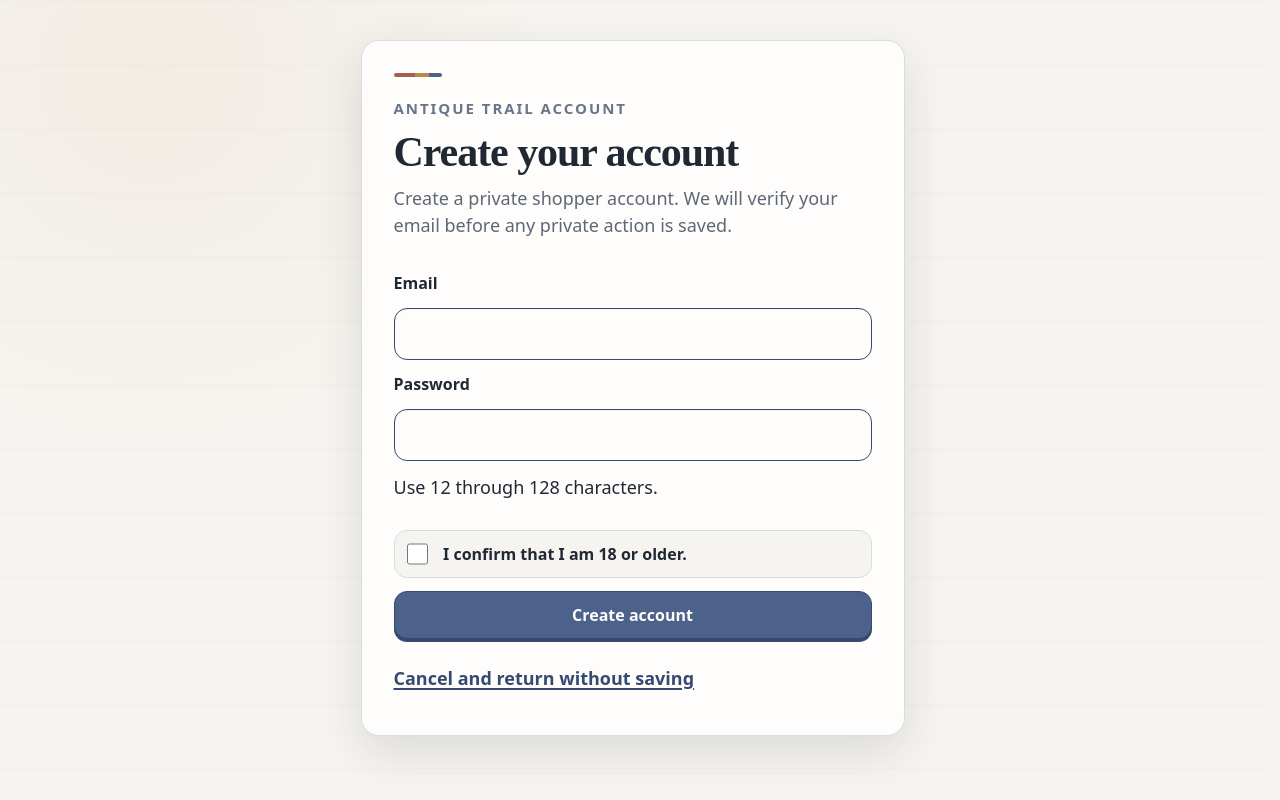
Test: auth states › requires adult attestation and clears secrets when registration is blocked
Type "blocked@example.test" into the field labelled "Email" at [632, 334], box [394,308,872,360]
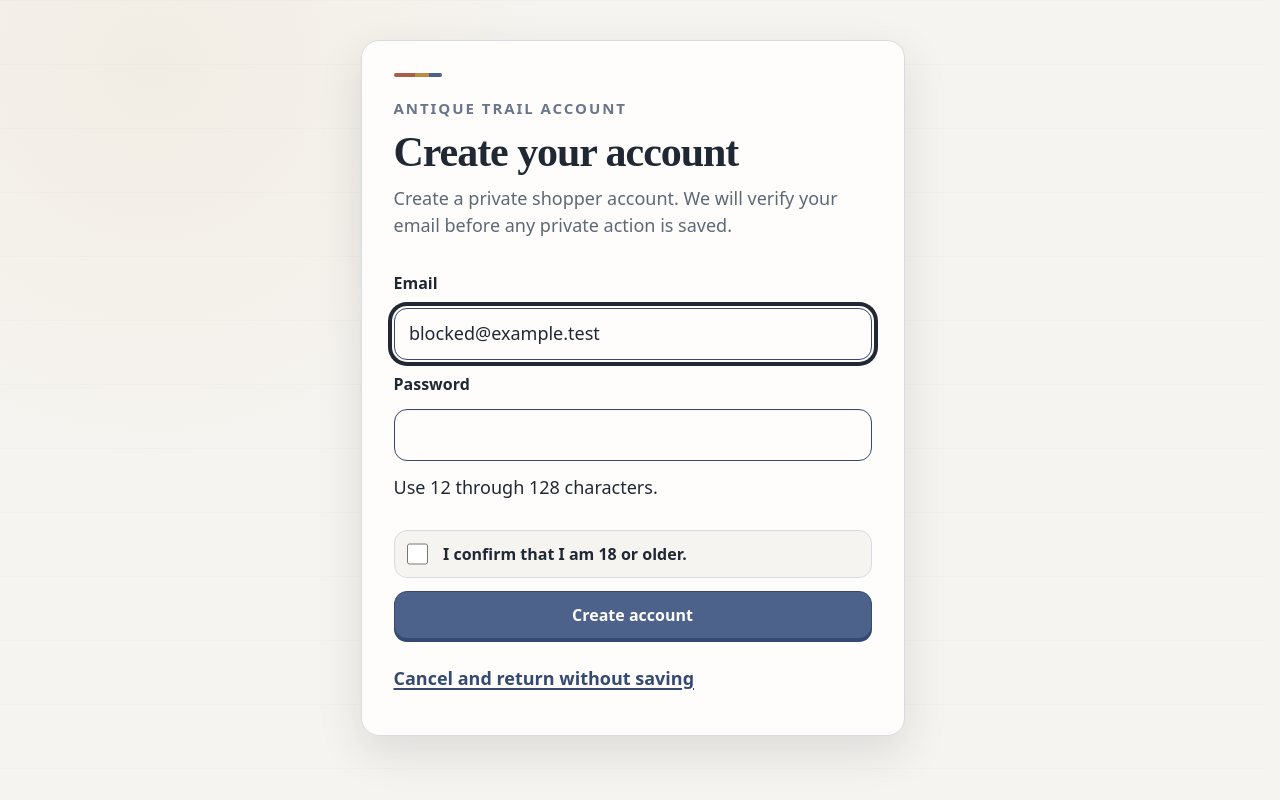
Type "long-safe-password" into the password field labelled "Password" at [632, 435], box [394,409,872,461]
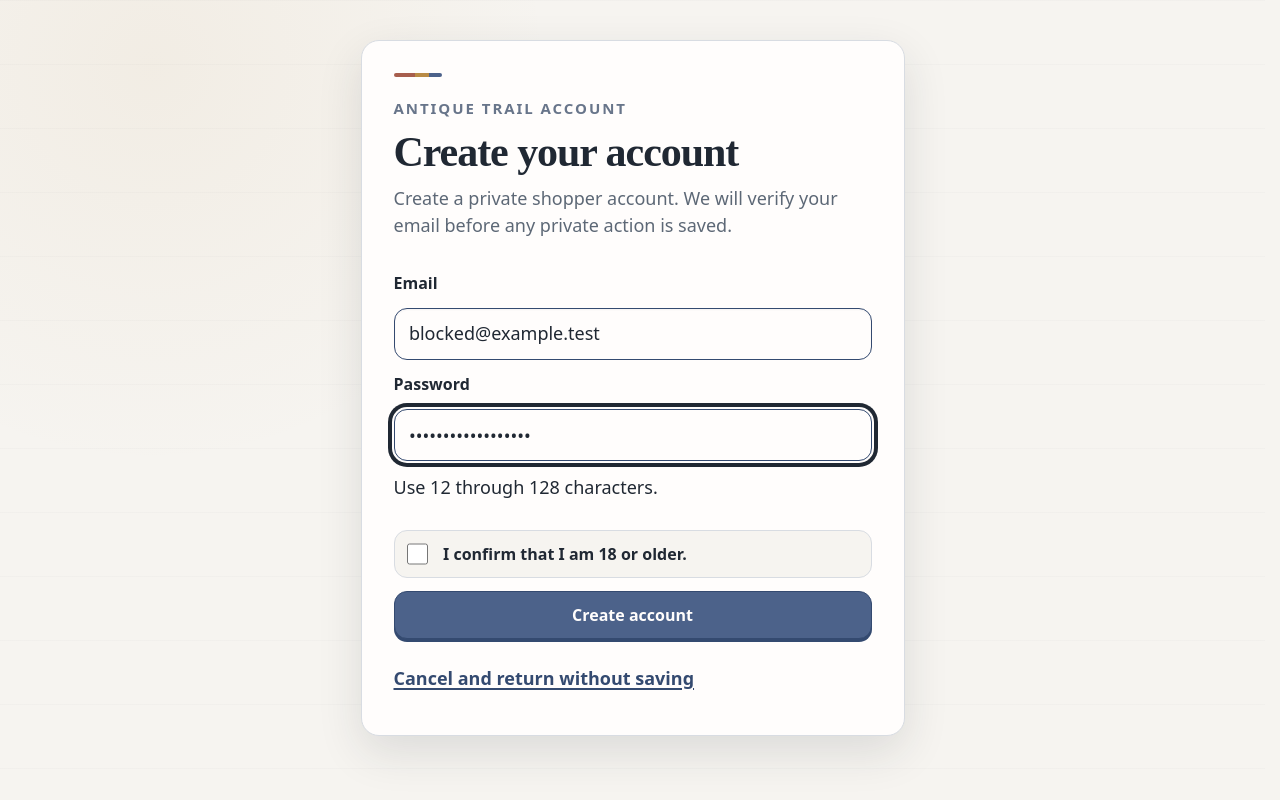
Click the button "Create account" at [632, 615], box [394,591,872,639]
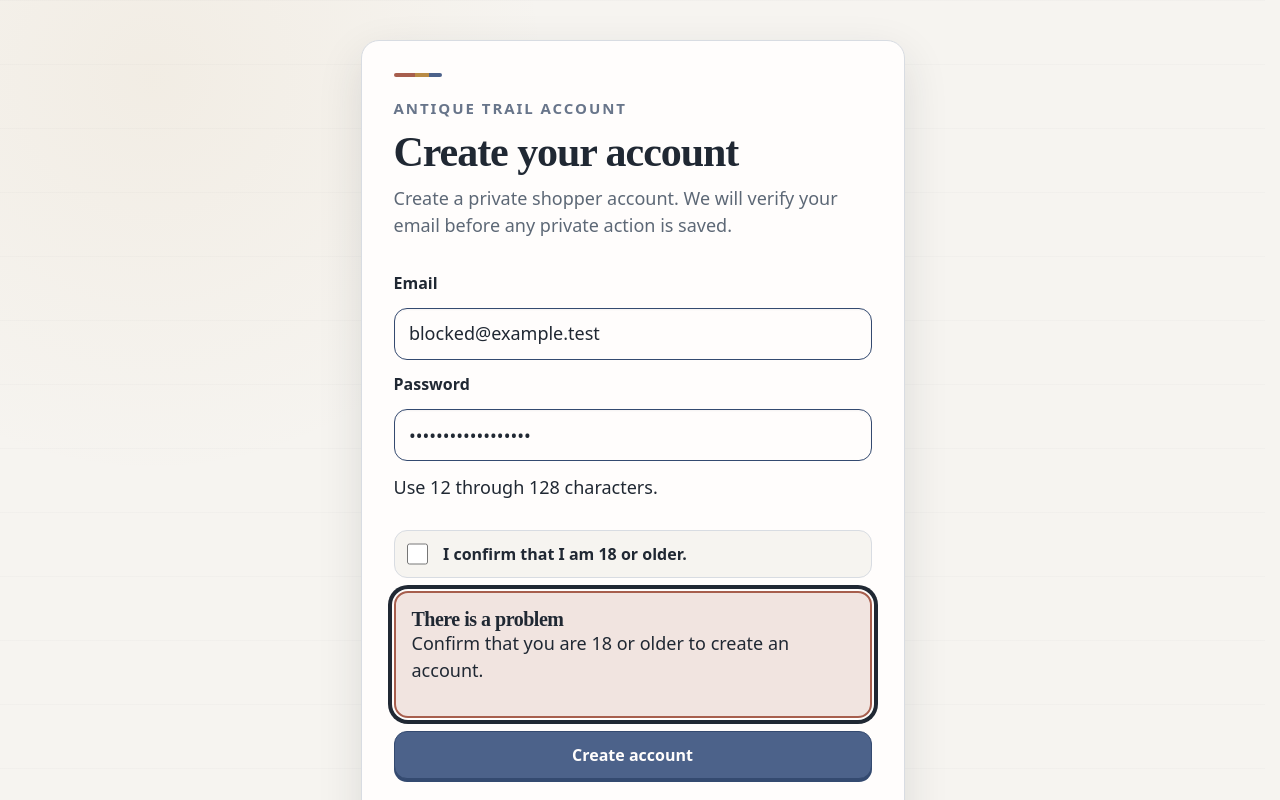
Result: the message shows "18 or older" at [412,631,789,682]
Click the checkbox labelled "I confirm that I am 18 or older." at [417, 554], box [406,543,428,565]
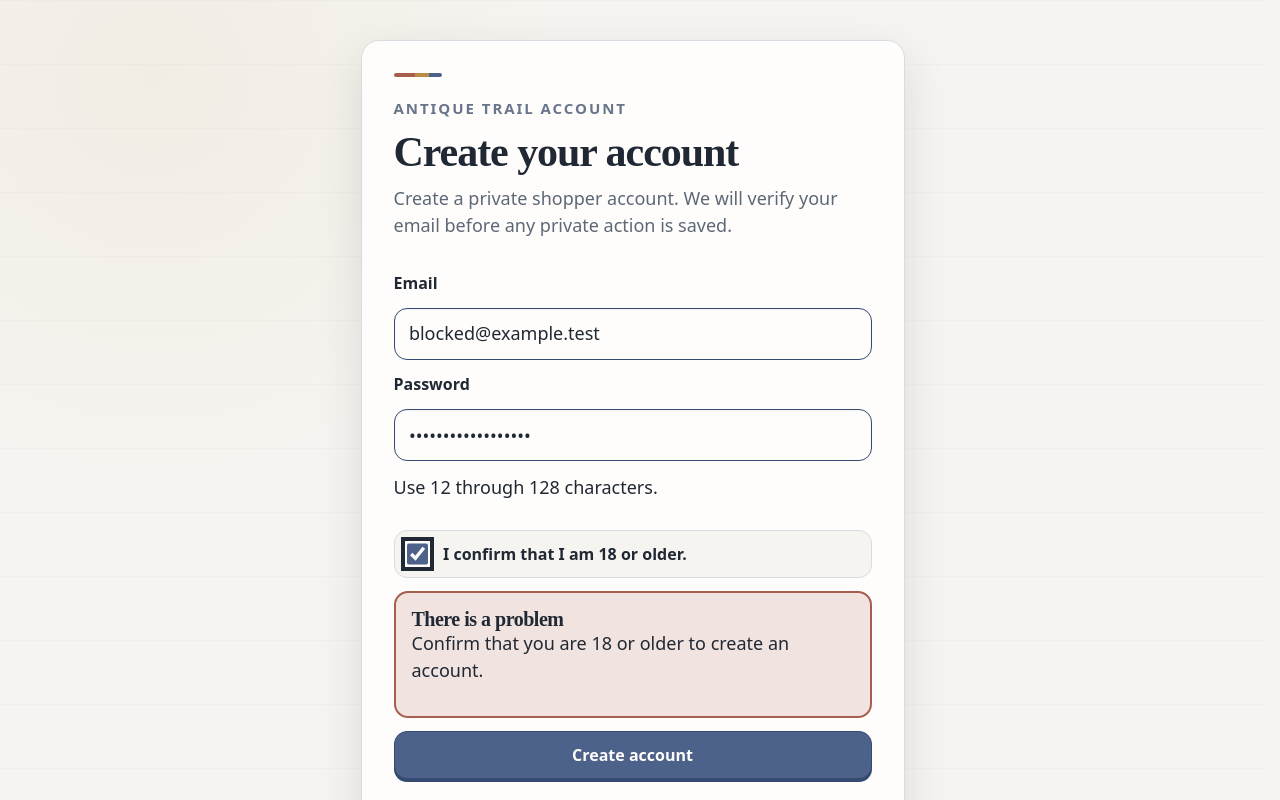
Click the button "Create account" at [632, 755], box [394,731,872,779]
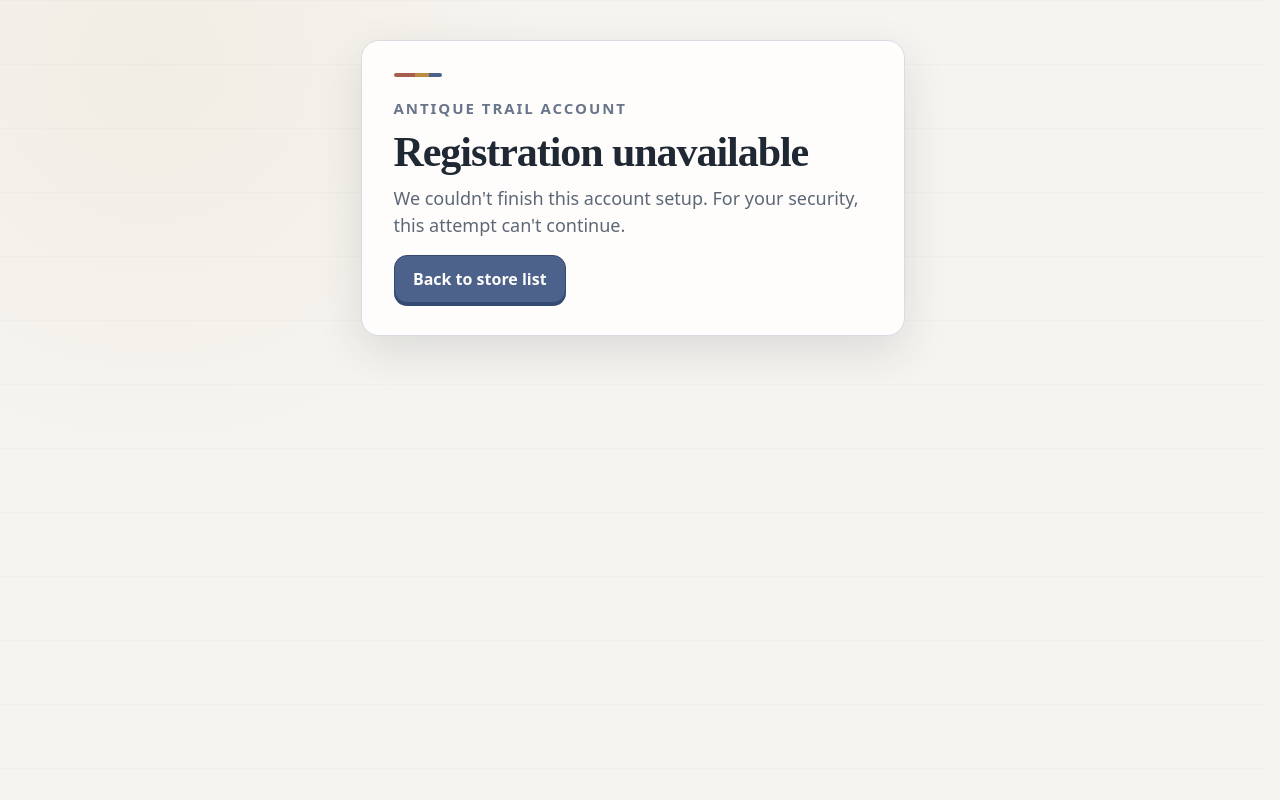
Result: the heading "Registration unavailable" is shown at [394,131,872,174]
Result: the text "can't continue" is shown at [394,186,859,237]
